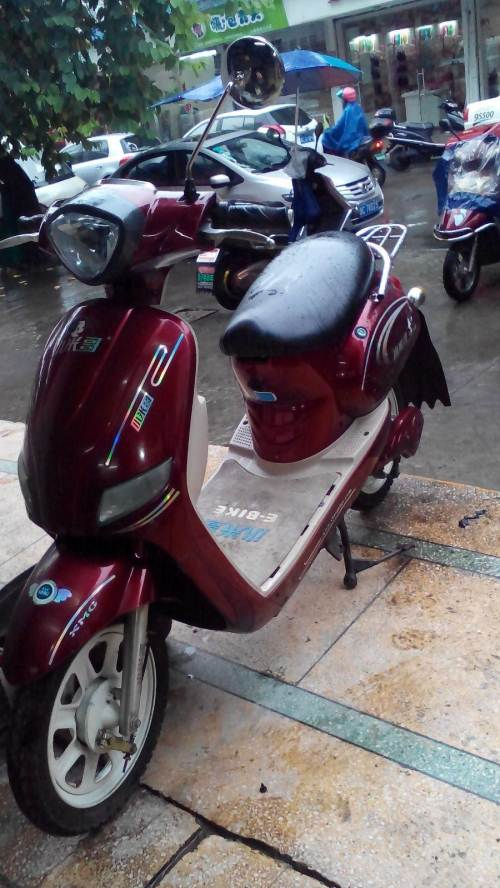电动车: (1, 30, 456, 834)
